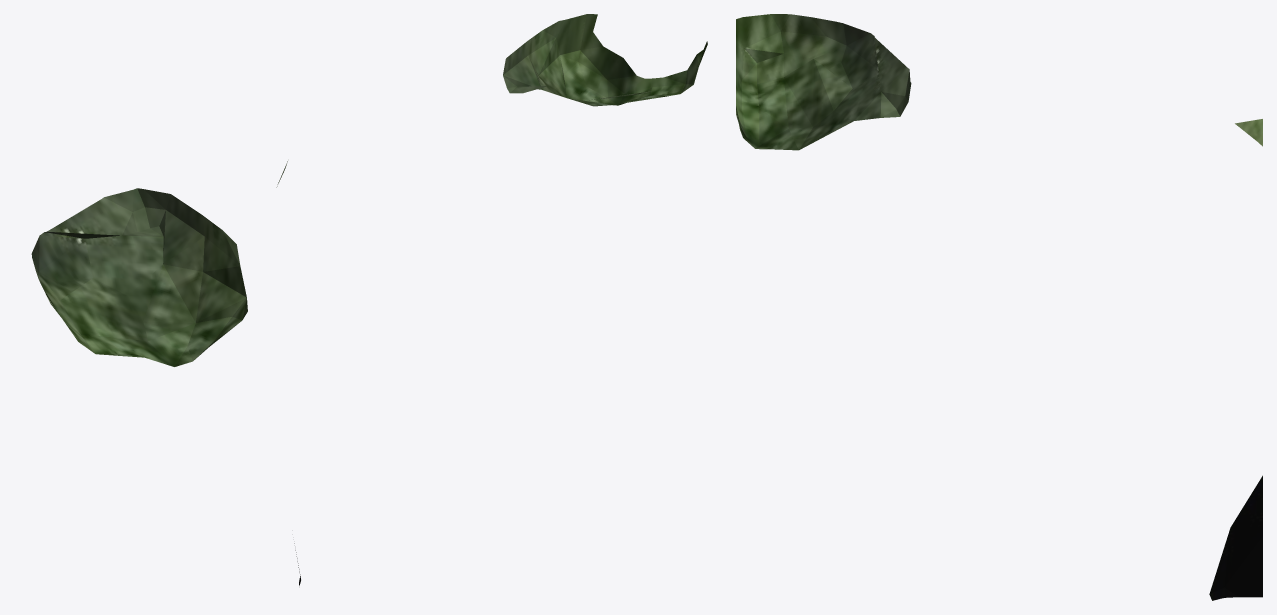
3 renders of one model, left to right at view 1: azimuth 30°, elevation 25°; view 2: azimuth 150°, elevation 25°; view 3: azimuth 270°, elevation 25°, orthographic. The views are drawn at different scales.
Size of the model in its own units: 1.45 by 2.95 by 2.95.
Materials: 1 (1 with a texture image).
